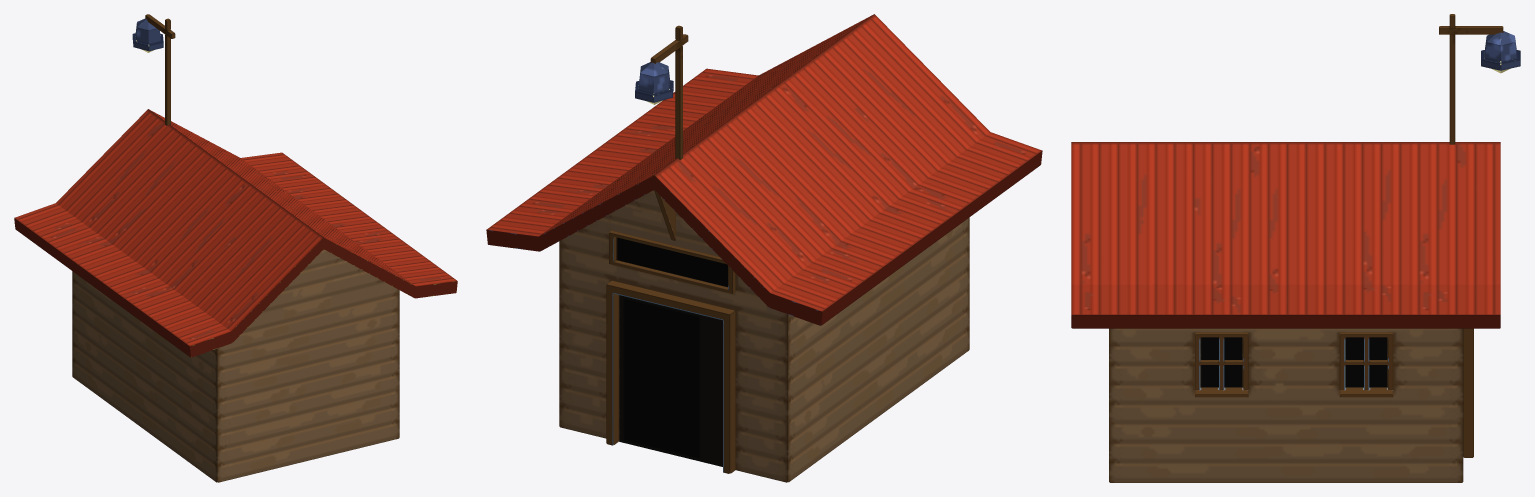
The model's file is Shed.fbx.
3 views of the same model, side by side, from view 1: azimuth 30°, elevation 25°; view 2: azimuth 150°, elevation 25°; view 3: azimuth 270°, elevation 25° (orthographic). The views are drawn at different scales.
Visible parts, largest first — view 1: base, stick, light_top; view 2: base, doorframe, window2_1, stick, light_top; view 3: base, window1, window2, doorframe, stick, light_top.
Boxes of the visible parts, <box> form: base: <box>14,109,457,482</box>; stick: <box>145,14,175,125</box>; light_top: <box>132,18,163,51</box>; base: <box>486,14,1042,482</box>; doorframe: <box>606,280,735,473</box>; window2_1: <box>609,230,735,293</box>; stick: <box>650,25,688,160</box>; light_top: <box>635,62,673,102</box>; base: <box>1071,142,1500,482</box>; window1: <box>1339,332,1393,397</box>; window2: <box>1195,332,1248,397</box>; doorframe: <box>1463,328,1473,457</box>; stick: <box>1439,14,1503,144</box>; light_top: <box>1481,31,1520,70</box>.
Size of the model in its own units: 441 by 531 by 523.
3 materials, 3 textured.
